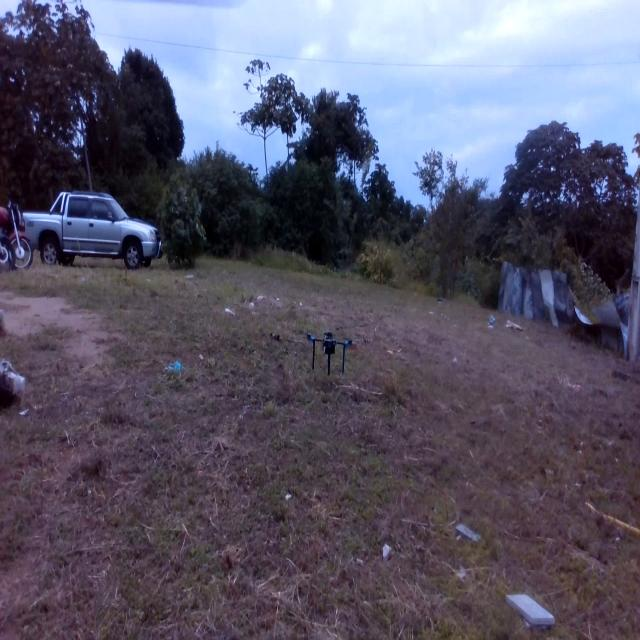-uav-: (299, 320, 368, 385)
